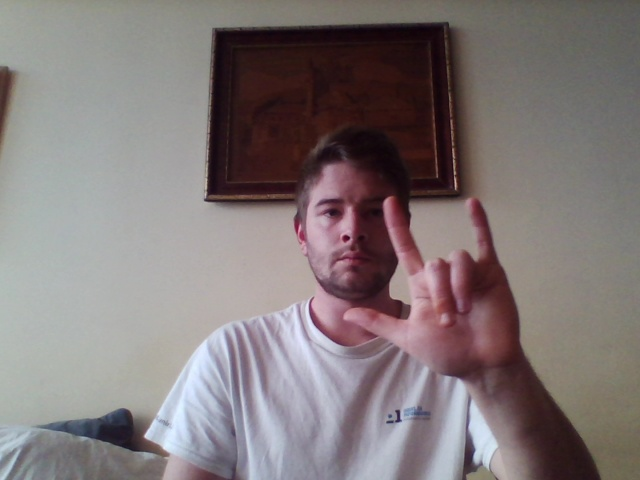volimte: (337, 194, 529, 372)
